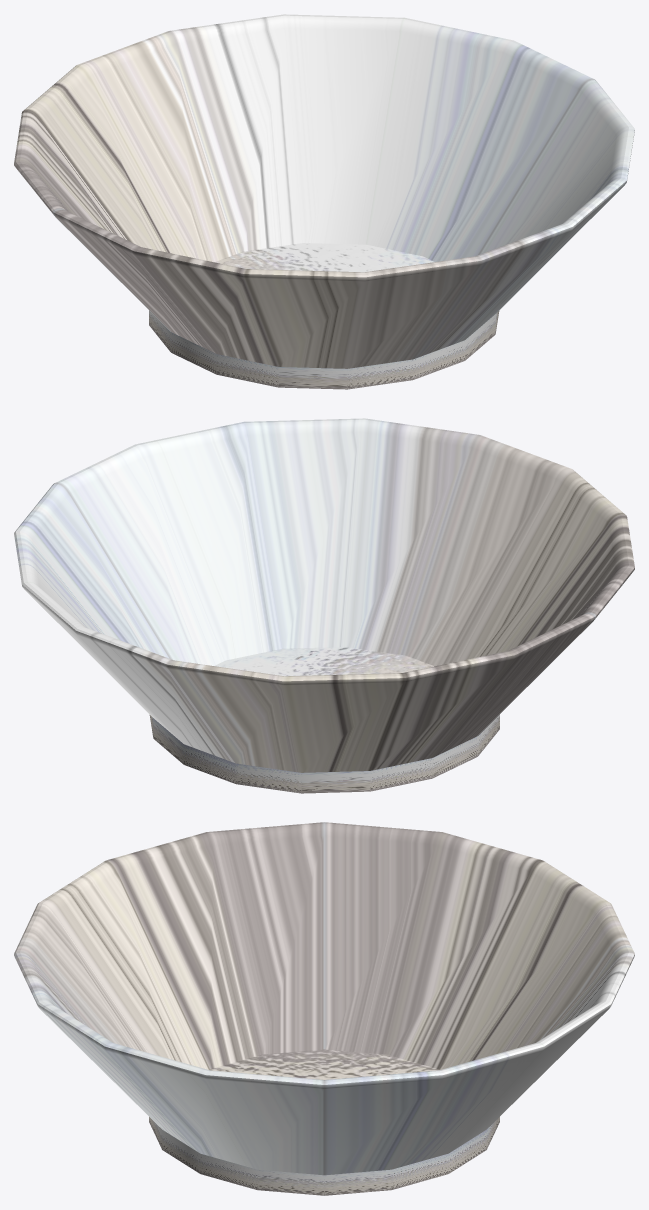
Rendered from ramequin.FBX.
3 views of the same model, one above another, from view 1: azimuth 30°, elevation 25°; view 2: azimuth 150°, elevation 25°; view 3: azimuth 270°, elevation 25° (orthographic).
Parts seen in each view (by area): view 1: Cylinder001; view 2: Cylinder001; view 3: Cylinder001.
Part boxes in pixels (x1,y1,x2,y2): Cylinder001: [14, 14, 634, 389]; Cylinder001: [14, 418, 634, 793]; Cylinder001: [14, 822, 634, 1195].
Size of the model in its own units: 32.72 by 9.85 by 32.72.
